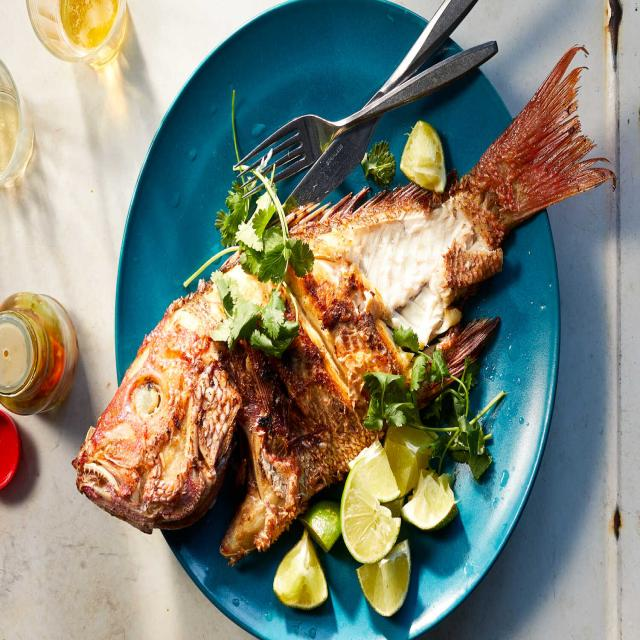Peixe: (71, 42, 617, 566)
